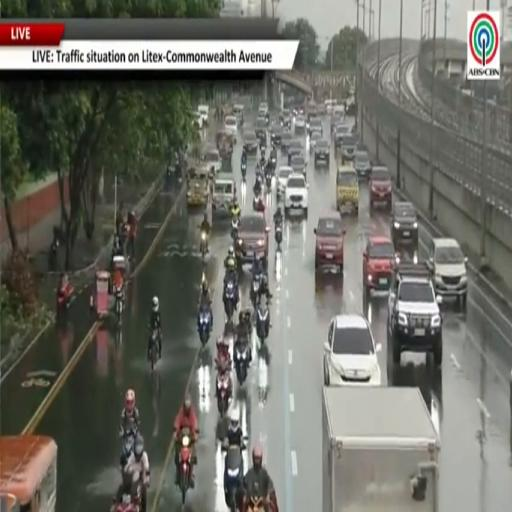car: (387, 263, 443, 366), (324, 314, 381, 386), (429, 238, 467, 310), (363, 236, 395, 297), (236, 214, 269, 267), (315, 216, 345, 271), (391, 202, 418, 250), (369, 166, 392, 212), (212, 175, 235, 219), (285, 173, 308, 216), (276, 166, 294, 196), (354, 150, 371, 181), (334, 122, 350, 151), (341, 134, 357, 161), (204, 148, 221, 173), (315, 139, 329, 167), (288, 139, 303, 165), (224, 116, 238, 141), (289, 155, 306, 175), (244, 131, 258, 154), (270, 123, 283, 146), (309, 118, 323, 136), (281, 131, 293, 152), (233, 104, 244, 126), (255, 118, 266, 140), (331, 115, 342, 136), (198, 105, 209, 126), (280, 109, 291, 129), (310, 132, 321, 152), (294, 116, 306, 134), (307, 101, 317, 120), (324, 100, 336, 115), (292, 103, 304, 117), (194, 112, 203, 130), (258, 103, 269, 117), (334, 105, 345, 117), (318, 103, 326, 115)
jeepney: (0, 435, 57, 511), (336, 165, 359, 214), (212, 173, 235, 218), (187, 168, 209, 206), (216, 131, 233, 162), (233, 104, 244, 125)
motorcycle: (223, 446, 245, 511), (178, 429, 193, 504), (216, 371, 231, 417), (234, 344, 250, 385), (256, 301, 270, 345), (57, 282, 73, 315), (198, 308, 211, 346), (111, 494, 140, 511), (224, 280, 236, 319), (120, 436, 134, 468), (149, 329, 159, 372), (250, 275, 261, 309), (114, 285, 123, 321), (246, 496, 266, 511), (200, 232, 208, 262), (231, 217, 239, 241), (253, 195, 264, 212), (275, 223, 282, 249), (265, 171, 272, 190), (241, 163, 247, 181), (270, 154, 276, 169), (260, 143, 266, 154)
truck: (322, 387, 440, 511)
